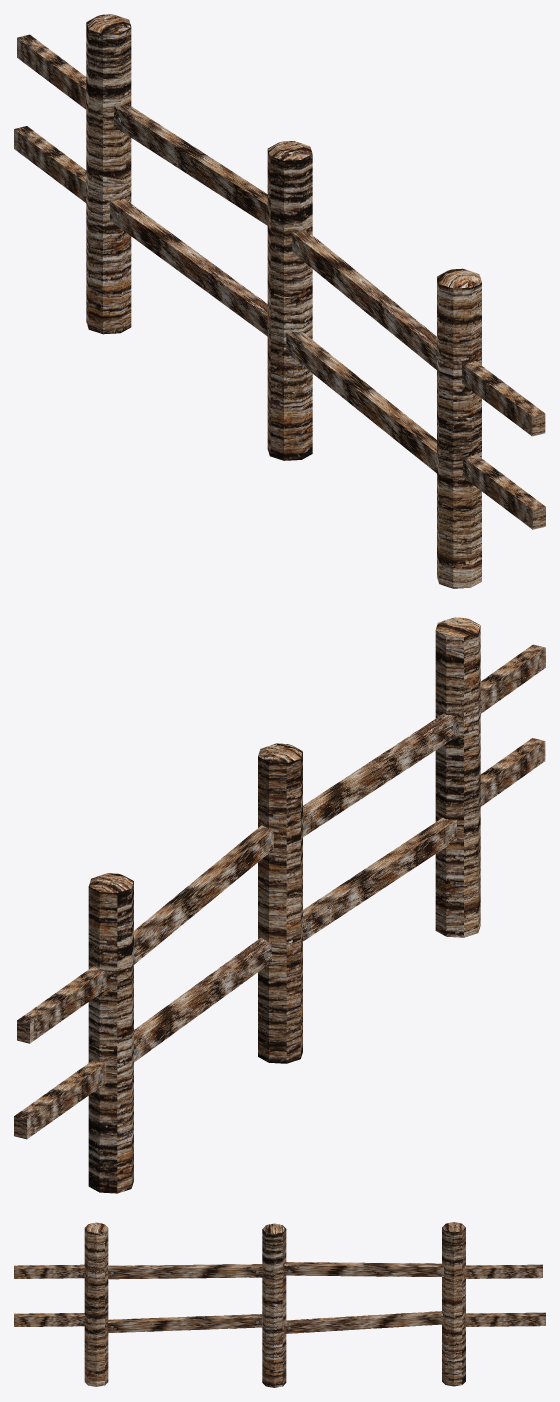
The model's file is fence_mid.fbx.
3 renders of one model, top to bottom at view 1: azimuth 30°, elevation 25°; view 2: azimuth 150°, elevation 25°; view 3: azimuth 270°, elevation 25°, orthographic. The views are drawn at different scales.
Parts seen in each view (by area): view 1: pCylinder1, pCylinder2, pCylinder3, pCube2, pCube3, pCube1, pCube4, pCube6, pCube5, pCube7, pCube8; view 2: pCylinder1, pCylinder2, pCylinder3, pCube4, pCube3, pCube1, pCube2, pCube7, pCube8, pCube5, pCube6; view 3: pCylinder3, pCylinder2, pCylinder1, pCube2, pCube1, pCube4, pCube3, pCube7, pCube8, pCube5, pCube6.
Part boxes in pixels (x1=…): pCylinder1: x1=86, y1=14, x2=131, y2=334; pCylinder2: x1=267, y1=141, x2=312, y2=460; pCylinder3: x1=437, y1=268, x2=481, y2=588; pCube2: x1=110, y1=198, x2=267, y2=336; pCube3: x1=286, y1=331, x2=436, y2=473; pCube1: x1=113, y1=103, x2=267, y2=225; pCube4: x1=292, y1=229, x2=436, y2=369; pCube6: x1=462, y1=454, x2=545, y2=529; pCube5: x1=462, y1=361, x2=545, y2=436; pCube7: x1=14, y1=126, x2=86, y2=202; pCube8: x1=17, y1=34, x2=86, y2=109; pCylinder1: x1=88, y1=873, x2=133, y2=1193; pCylinder2: x1=258, y1=743, x2=302, y2=1063; pCylinder3: x1=435, y1=617, x2=480, y2=937; pCube4: x1=303, y1=713, x2=458, y2=836; pCube3: x1=303, y1=817, x2=456, y2=941; pCube1: x1=134, y1=825, x2=273, y2=964; pCube2: x1=134, y1=938, x2=271, y2=1062; pCube7: x1=14, y1=1059, x2=106, y2=1139; pCube8: x1=17, y1=966, x2=106, y2=1043; pCube5: x1=480, y1=644, x2=545, y2=713; pCube6: x1=480, y1=738, x2=545, y2=806; pCylinder3: x1=84, y1=1222, x2=108, y2=1386; pCylinder2: x1=262, y1=1223, x2=286, y2=1387; pCylinder1: x1=442, y1=1222, x2=465, y2=1386; pCube2: x1=283, y1=1311, x2=442, y2=1333; pCube1: x1=284, y1=1262, x2=443, y2=1276; pCube4: x1=107, y1=1264, x2=263, y2=1279; pCube3: x1=107, y1=1314, x2=262, y2=1333; pCube7: x1=464, y1=1312, x2=545, y2=1326; pCube8: x1=464, y1=1264, x2=542, y2=1278; pCube5: x1=14, y1=1264, x2=85, y2=1278; pCube6: x1=14, y1=1313, x2=85, y2=1326.
Bounding box in the file's own units: 0.9353 × 5.86 × 18.1.
Materials: 2 (1 with a texture image).
